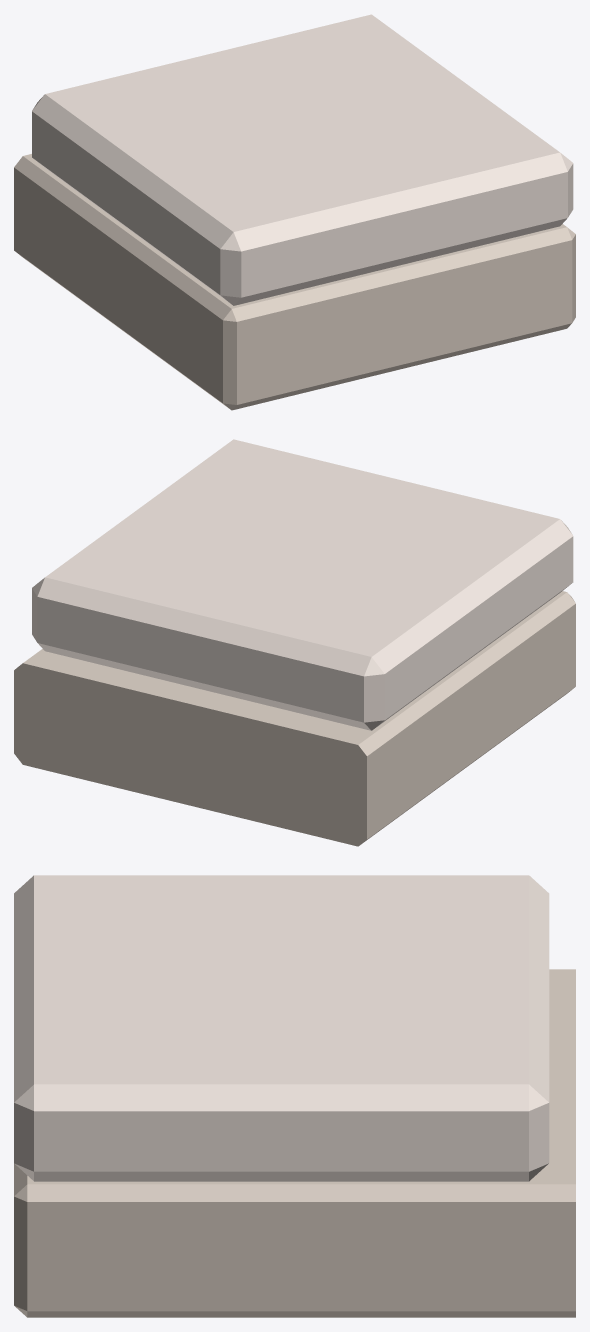
File: Prop_Living_Room_Modular_Couch_Leg_Rest.fbx
The picture shows the model from 3 angles, top to bottom: view 1: azimuth 30°, elevation 25°; view 2: azimuth 150°, elevation 25°; view 3: azimuth 270°, elevation 25°; orthographic projection. The views are drawn at different scales.
Parts seen in each view (by area): view 1: object2.020, object1.034; view 2: object2.020, object1.034; view 3: object2.020, object1.034.
Part boxes in pixels (<box>): object2.020: <box>32,14,573,305</box>; object1.034: <box>14,154,575,410</box>; object2.020: <box>32,439,573,730</box>; object1.034: <box>14,591,575,846</box>; object2.020: <box>14,875,549,1181</box>; object1.034: <box>14,969,575,1317</box>.
Size of the model in its own units: 100 by 47.5 by 105.
